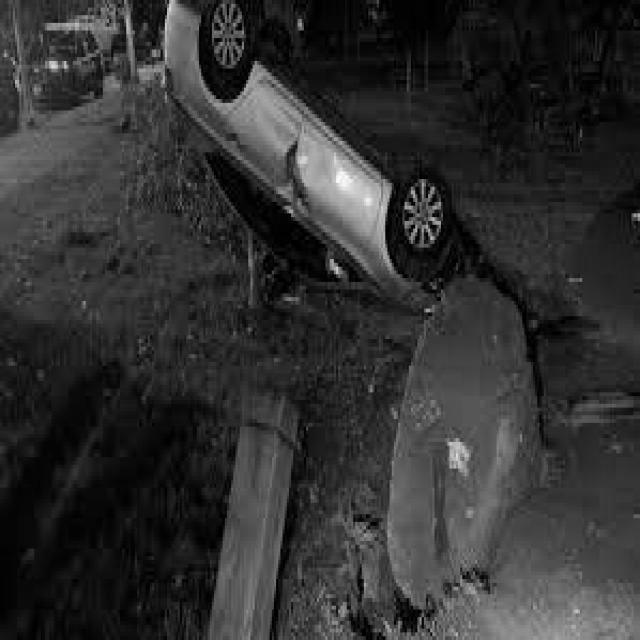accident: (157, 0, 465, 309)
vehicle: (21, 25, 105, 106)
